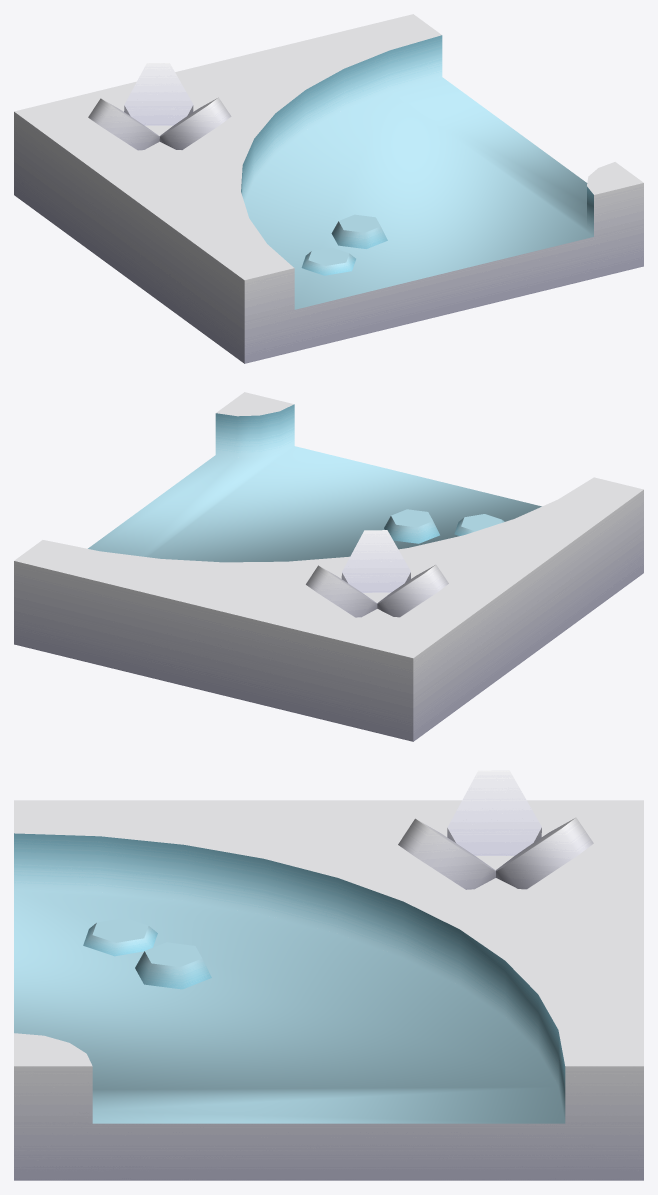
The model's file is tower-defense-kit--snow-tile-corner-round.glb.
3 renders of one model, top to bottom at view 1: azimuth 30°, elevation 25°; view 2: azimuth 150°, elevation 25°; view 3: azimuth 270°, elevation 25°, orthographic. The views are drawn at different scales.
Parts seen in each view (by area): view 1: snow-tile-corner-round; view 2: snow-tile-corner-round; view 3: snow-tile-corner-round.
Part boxes in pixels (bbox=[...]): snow-tile-corner-round: bbox=[14, 14, 643, 363]; snow-tile-corner-round: bbox=[14, 392, 643, 741]; snow-tile-corner-round: bbox=[14, 770, 643, 1180].
Bounding box in the file's own units: 1 × 0.296 × 1.
1 material, 1 textured.
